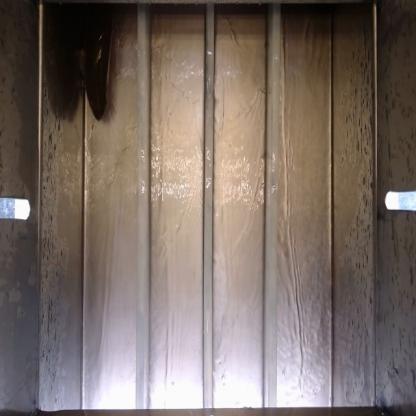pezw: (82, 12, 129, 124)
